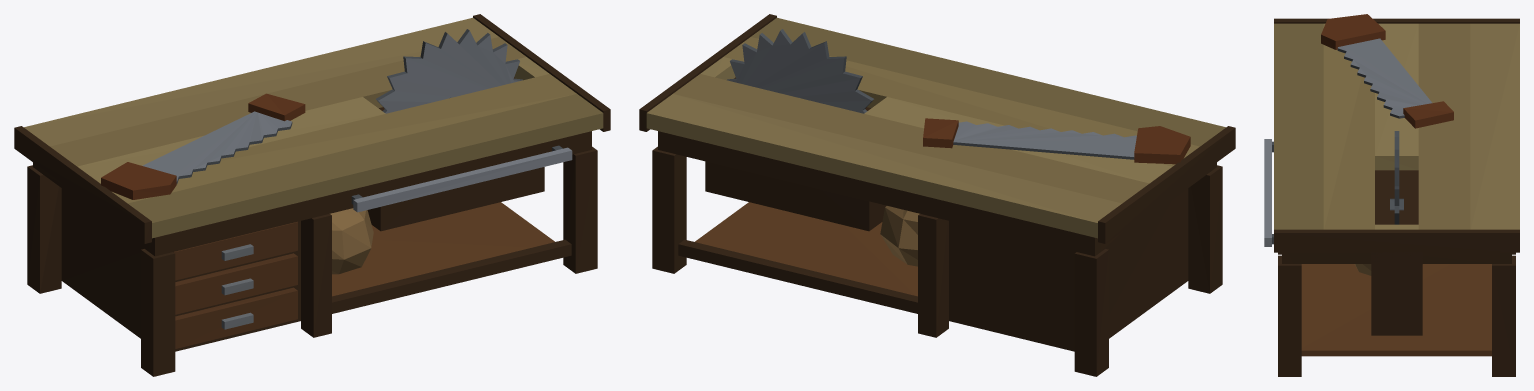
Rendered from sawmill.obj.
3 renders of one model, left to right at view 1: azimuth 30°, elevation 25°; view 2: azimuth 150°, elevation 25°; view 3: azimuth 270°, elevation 25°, orthographic. The views are drawn at different scales.
Visible parts, largest first — view 1: sawmill, saw_blade; view 2: sawmill, saw_blade; view 3: sawmill, saw_blade.
Part boxes in pixels (box(x1,y1,x2,y2)): sawmill: box(14, 14, 610, 376); saw_blade: box(376, 29, 522, 113); sawmill: box(639, 14, 1235, 376); saw_blade: box(727, 29, 873, 113); sawmill: box(1264, 14, 1519, 376); saw_blade: box(1390, 131, 1403, 224).
Bounding box in the file's own units: 256 × 111 × 129.
